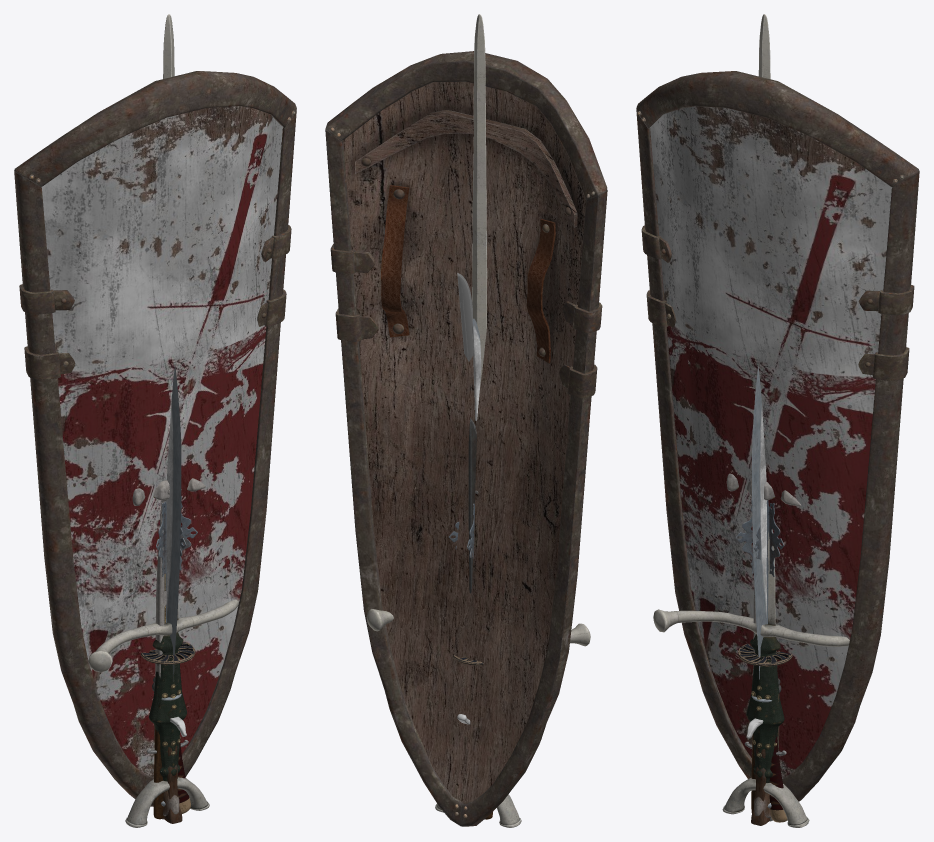
Rendered from GIRIA_NAUJIENOS.glb.
3 renders of one model, left to right at view 1: azimuth 30°, elevation 25°; view 2: azimuth 150°, elevation 25°; view 3: azimuth 330°, elevation 25°, orthographic.
Visible parts, largest first — view 1: naujiena-skydas-kite_shield_body, naujiena-skydas-kite_shield_metal_trim, naujiena-estokas-antique_estoc, naujiena-sabele-wooden_handle_saber, naujiena-skydas-kite_shield_clamps_and_bolts, naujiena-kujis-ornate_war_hammer, naujiena-buoze-ornate_medieval_mace, naujiena-katana-antique_katana_01; view 2: naujiena-skydas-kite_shield_body, naujiena-skydas-kite_shield_metal_trim, naujiena-estokas-antique_estoc, naujiena-skydas-kite_shield_clamps_and_bolts, naujiena-katana-antique_katana_01, naujiena-macete-machete, naujiena-sabele-wooden_handle_saber; view 3: naujiena-skydas-kite_shield_body, naujiena-skydas-kite_shield_metal_trim, naujiena-estokas-antique_estoc, naujiena-sabele-wooden_handle_saber, naujiena-skydas-kite_shield_clamps_and_bolts, naujiena-buoze-ornate_medieval_mace, naujiena-katana-antique_katana_01, naujiena-kujis-ornate_war_hammer.
Boxes of the visible parts, x1,y1,x2,y2 form: naujiena-skydas-kite_shield_body: (41,106,282,777); naujiena-skydas-kite_shield_metal_trim: (14,71,296,806); naujiena-estokas-antique_estoc: (88,14,238,827); naujiena-sabele-wooden_handle_saber: (163,364,186,823); naujiena-skydas-kite_shield_clamps_and_bolts: (19,110,295,379); naujiena-kujis-ornate_war_hammer: (132,478,205,819); naujiena-buoze-ornate_medieval_mace: (156,496,197,806); naujiena-katana-antique_katana_01: (140,642,195,813); naujiena-skydas-kite_shield_body: (343,82,586,802); naujiena-skydas-kite_shield_metal_trim: (325,51,607,826); naujiena-estokas-antique_estoc: (366,14,590,827); naujiena-skydas-kite_shield_clamps_and_bolts: (330,127,602,817); naujiena-katana-antique_katana_01: (453,273,483,665); naujiena-macete-machete: (468,418,476,593); naujiena-sabele-wooden_handle_saber: (457,318,481,724); naujiena-skydas-kite_shield_body: (650,106,892,778); naujiena-skydas-kite_shield_metal_trim: (636,71,919,801); naujiena-estokas-antique_estoc: (653,14,849,827); naujiena-sabele-wooden_handle_saber: (746,366,769,825); naujiena-skydas-kite_shield_clamps_and_bolts: (637,111,914,380); naujiena-buoze-ornate_medieval_mace: (735,499,784,808); naujiena-katana-antique_katana_01: (738,643,792,822); naujiena-kujis-ornate_war_hammer: (726,473,801,813).
Size of the model in its own units: 0.5432 by 1.49 by 0.1491.
10 materials, 10 textured.
